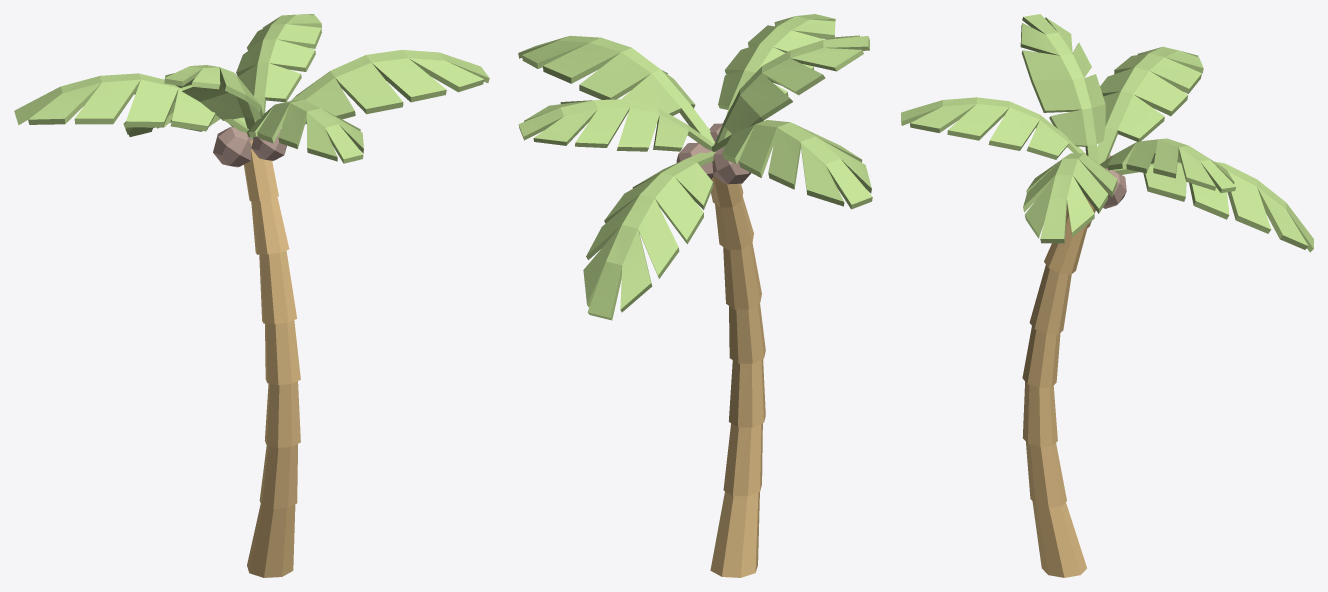
The model's file is palm.fbx.
3 views of the same model, side by side, from view 1: azimuth 30°, elevation 25°; view 2: azimuth 150°, elevation 25°; view 3: azimuth 270°, elevation 25° (orthographic). The views are drawn at different scales.
Parts seen in each view (by area): view 1: node-0; view 2: node-0; view 3: node-0.
Part boxes in pixels (x1,y1,x2,y2): node-0: (14, 14, 489, 577); node-0: (518, 14, 872, 577); node-0: (901, 14, 1313, 577).
Size of the model in its own units: 1598 by 1997 by 1490.
